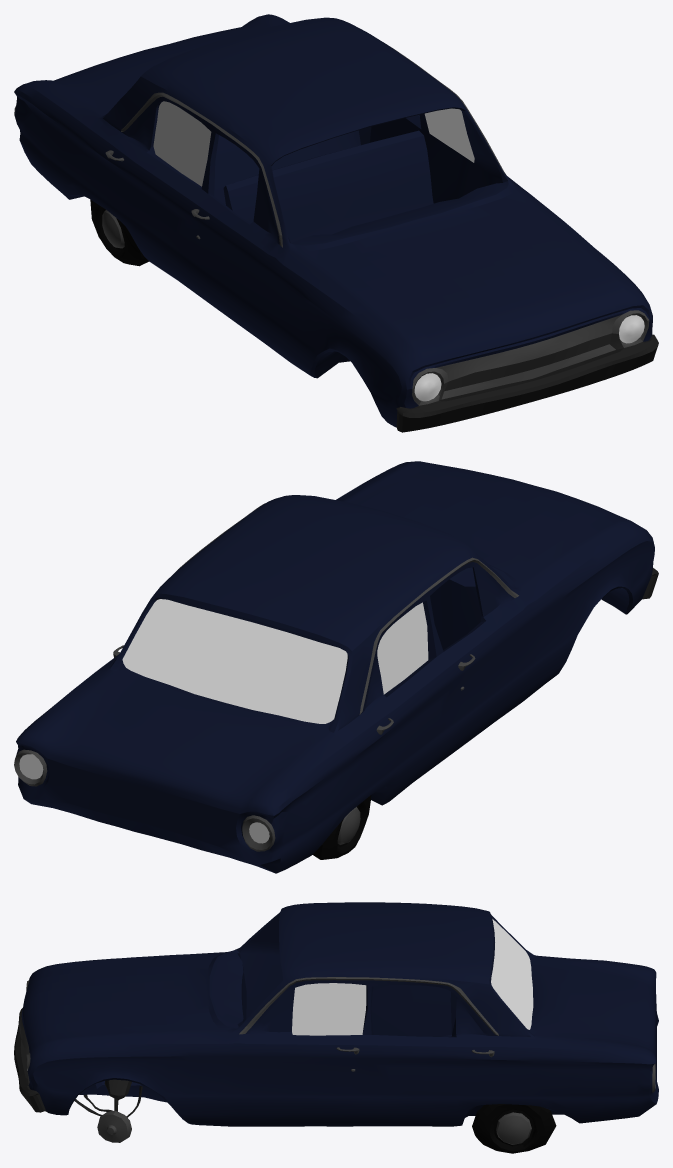
The model's file is Car-M00A.fbx.
The picture shows the model from 3 angles, top to bottom: view 1: azimuth 30°, elevation 25°; view 2: azimuth 150°, elevation 25°; view 3: azimuth 270°, elevation 25°; orthographic projection. The views are drawn at different scales.
Parts seen in each view (by area): view 1: Plane; view 2: Plane; view 3: Plane.
Part boxes in pixels (box(x1,y1,x2,y2)): Plane: box(14, 14, 658, 432); Plane: box(14, 461, 658, 873); Plane: box(14, 902, 658, 1153).
Bounding box in the file's own units: 1189 × 901 × 2995.
